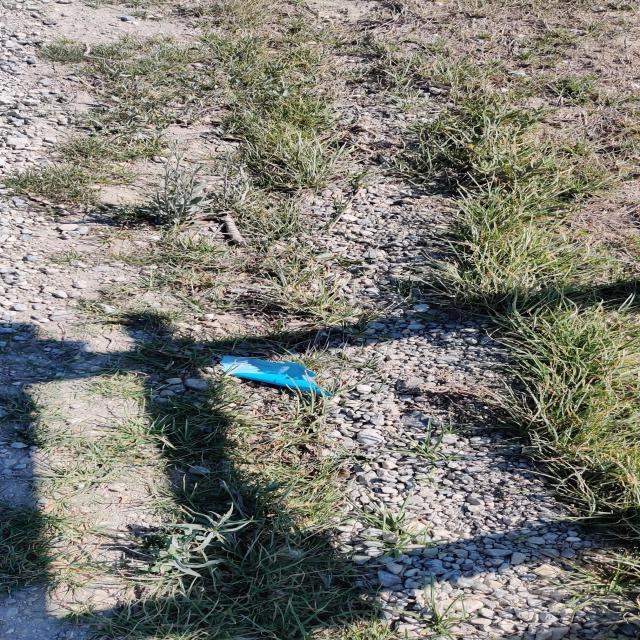litter: (213, 354, 324, 394)
